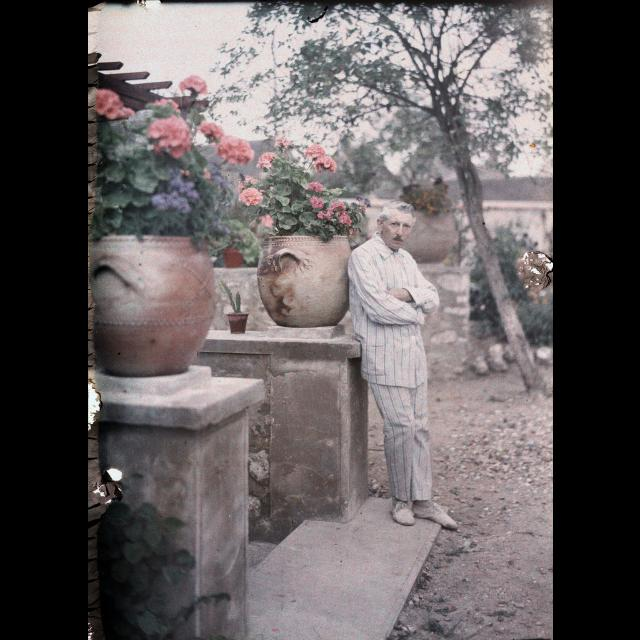Flower: (196, 118, 254, 168), (136, 104, 184, 152), (151, 170, 203, 212), (316, 202, 366, 240), (302, 138, 338, 174), (96, 90, 134, 122), (177, 71, 209, 95), (236, 186, 262, 207), (256, 150, 280, 172), (238, 173, 260, 190), (271, 134, 291, 152), (306, 196, 324, 210), (306, 180, 324, 193), (258, 212, 276, 224)
